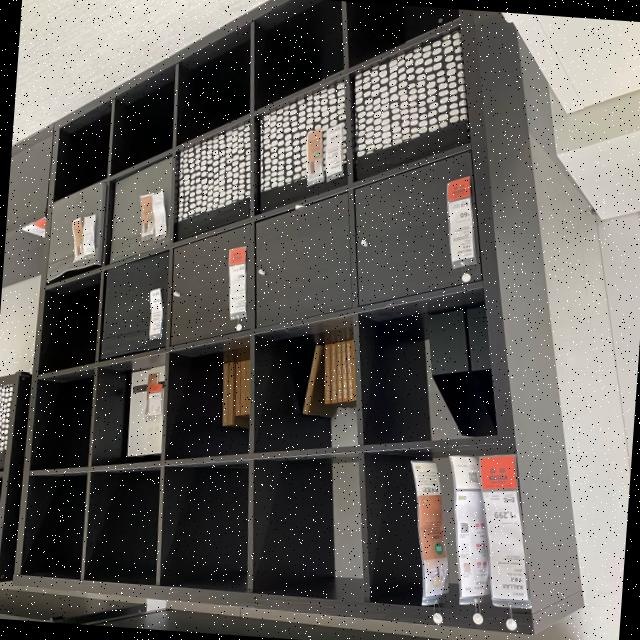Shelf: (8, 0, 628, 640)
